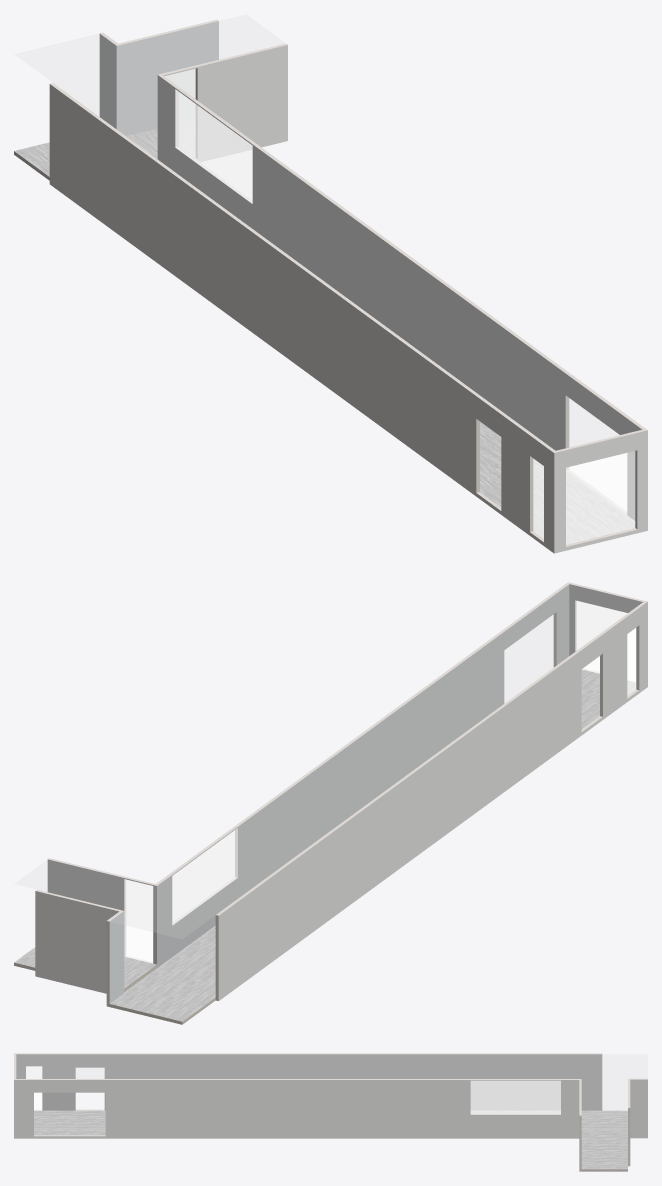
3 renders of one model, top to bottom at view 1: azimuth 30°, elevation 25°; view 2: azimuth 150°, elevation 25°; view 3: azimuth 270°, elevation 25°, orthographic. The views are drawn at different scales.
Parts seen in each view (by area): view 1: wall_5 (×2), ceiling_Other_1, wall_4 (×3), door_2 (×2), window_0 (×2), wall_3, wall_0, floor_Other_1, ceiling_Other_2, wall_1, door_0 (×2), wall_2 (+1 smaller); view 2: wall_5 (×3), ceiling_Other_1, wall_4 (×2), window_0 (×2), wall_0, floor_Other_1, door_1 (×2), ceiling_Other_2, door_2 (×2), wall_3, wall_1, wall_2 (+1 smaller); view 3: wall_4 (×3), wall_5 (×2), ceiling_Other_1, window_0 (×2), floor_Other_1, floor_Other_2, ceiling_Other_2, wall_2, door_0 (×2).
Part boxes in pixels (bbox=[...]): wall_5 (×2): bbox=[49, 83, 555, 553]; ceiling_Other_1: bbox=[15, 34, 641, 449]; wall_4 (×3): bbox=[157, 75, 647, 520]; door_2 (×2): bbox=[566, 451, 634, 544]; window_0 (×2): bbox=[175, 89, 252, 203]; wall_3: bbox=[163, 45, 287, 161]; wall_0: bbox=[116, 21, 218, 135]; floor_Other_1: bbox=[14, 142, 634, 544]; ceiling_Other_2: bbox=[119, 15, 284, 73]; wall_1: bbox=[554, 430, 647, 553]; door_0 (×2): bbox=[533, 459, 543, 538]; wall_2: bbox=[99, 34, 116, 128]; wall_5 (×3): bbox=[215, 601, 647, 1000]; ceiling_Other_1: bbox=[110, 584, 641, 938]; wall_4 (×2): bbox=[156, 582, 569, 967]; window_0 (×2): bbox=[172, 828, 237, 924]; wall_0: bbox=[35, 891, 118, 993]; floor_Other_1: bbox=[110, 669, 635, 1021]; door_1 (×2): bbox=[124, 879, 152, 963]; ceiling_Other_2: bbox=[15, 860, 155, 909]; door_2 (×2): bbox=[575, 601, 627, 673]; wall_3: bbox=[47, 859, 156, 964]; wall_1: bbox=[569, 584, 642, 655]; wall_2: bbox=[109, 911, 124, 1003]; wall_4 (×3): bbox=[14, 1079, 580, 1138]; wall_5 (×2): bbox=[14, 1053, 602, 1110]; ceiling_Other_1: bbox=[17, 1055, 647, 1078]; window_0 (×2): bbox=[471, 1081, 560, 1113]; floor_Other_1: bbox=[34, 1110, 627, 1135]; floor_Other_2: bbox=[581, 1133, 627, 1169]; ceiling_Other_2: bbox=[582, 1079, 627, 1114]; wall_2: bbox=[630, 1079, 647, 1138]; door_0 (×2): bbox=[26, 1066, 41, 1110].
Bounding box in the file's own units: 6.16 × 2.7 × 26.51.
Materials: 19 (2 with a texture image).
